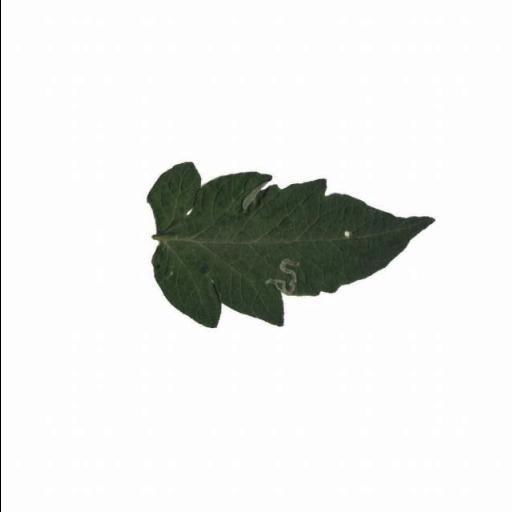disease_tomato: (147, 163, 439, 329)
